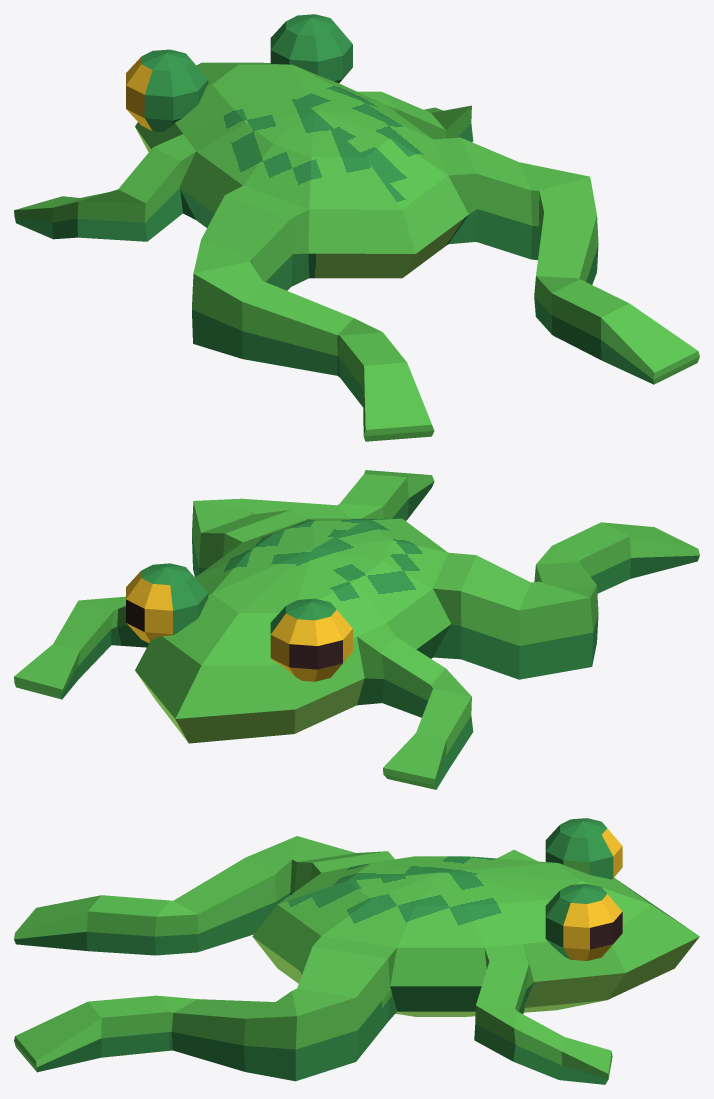
File: frog.fbx
3 views of the same model, one above another, from view 1: azimuth 30°, elevation 25°; view 2: azimuth 150°, elevation 25°; view 3: azimuth 270°, elevation 25° (orthographic). The views are drawn at different scales.
Parts seen in each view (by area): view 1: frog; view 2: frog; view 3: frog.
Part boxes in pixels (box(x1,y1,x2,y2)): frog: box(14, 14, 699, 441); frog: box(14, 470, 699, 789); frog: box(14, 818, 699, 1084).
Size of the model in its own units: 120 by 42.81 by 182.
Materials: 1 (1 with a texture image).
